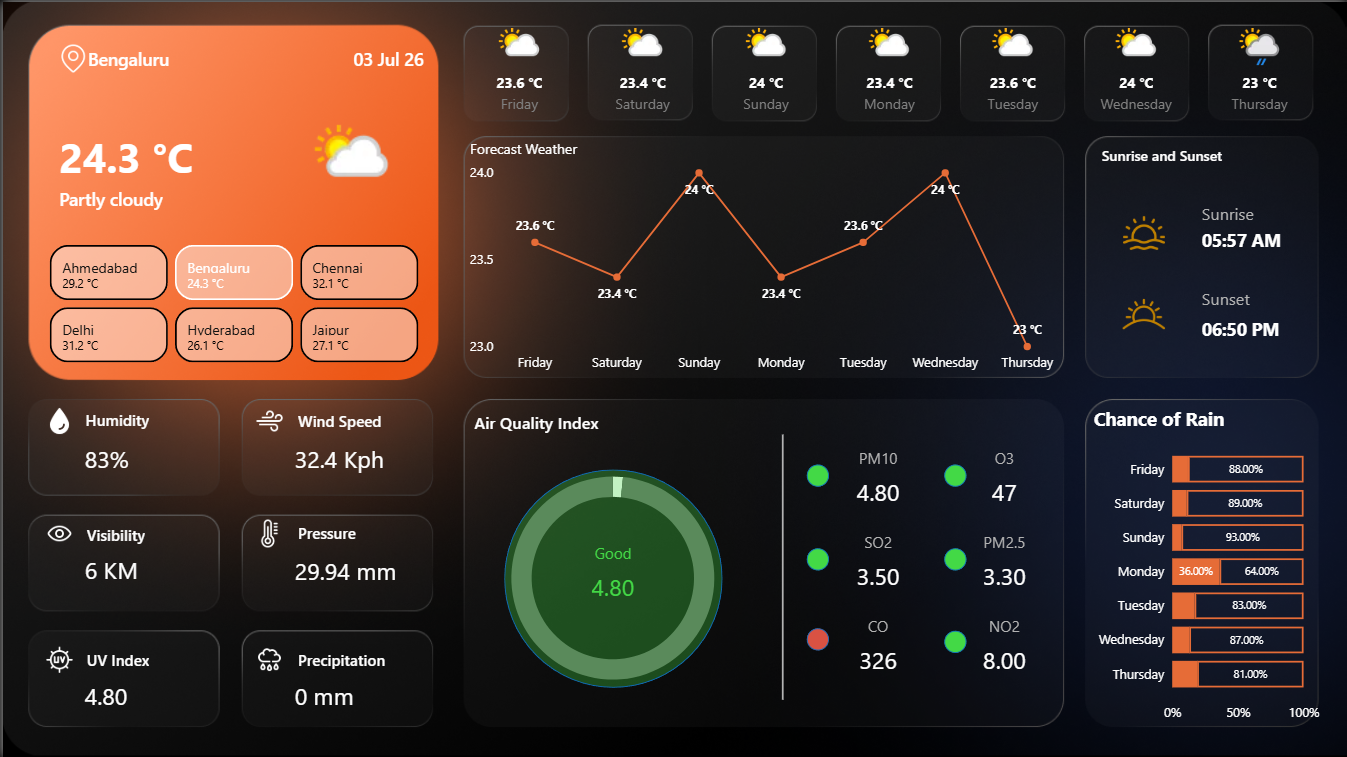

The page's visual inventory and layout, read from the dashboard file:
{"tool":"powerbi","page":{"name":"Page 1","canvas":[1536,864],"ordinal":0},"visuals":[{"type":"donutChart","title":"PM10","fields":{"Y":["Sum(Current.current.air_quality.pm10)","_Measures.LeftValue_pm10"]},"box":[547.4,508.2,300,300],"z":0},{"type":"shape","box":[918.3,529.1,25.4,25.4],"z":0,"group":"g7"},{"type":"shape","box":[1075.6,529.1,25.4,25.4],"z":0,"group":"g8"},{"type":"cardVisual","title":"SO2","fields":{"Data":["Sum(Current.current.air_quality.so2)"]},"box":[943.7,606,112,80],"z":0,"group":"g6"},{"type":"advancedSlicerVisual","fields":{"Values":["Forcast_Day.Day_Name"]},"box":[517.9,15.9,991.4,128.7],"z":1000},{"type":"shape","box":[572.7,533.5,249.4,249.4],"z":1000,"group":"g3"},{"type":"cardVisual","title":"PM2.5","fields":{"Data":["Sum(Current.current.air_quality.pm2_5)"]},"box":[1087.7,606,112,80],"z":1000,"group":"g6"},{"type":"shape","box":[918.3,624.4,25.4,25.4],"z":1000,"group":"g7"},{"type":"shape","box":[1075.6,624.4,25.4,25.4],"z":1000,"group":"g8"},{"type":"lineChart","title":"Forecast Weather","fields":{"Y":["Sum(Forcast_Day.forecast.forecastday.day.avgtemp_c)"],"Category":["Forcast_Day.Day_Name"]},"box":[529.1,155.7,684.8,276.4],"z":2000},{"type":"advancedSlicerVisual","fields":{"Values":["Locations.location.name"]},"box":[48,272,432,144],"z":2000,"group":"g5"},{"type":"shape","box":[918.3,716.6,25.4,25.4],"z":2000,"group":"g7"},{"type":"shape","box":[1075.6,719.8,25.4,25.4],"z":2000,"group":"g8"},{"type":"shape","box":[64,144,192,64],"z":3000,"group":"g5"},{"type":"hundredPercentStackedBarChart","title":"Chance of Rain","fields":{"Category":["Forcast_Day.Day_Name"],"Y":["Sum(Forcast_Day.forecast.forecastday.day.daily_chance_of_rain)","Current.Left_Value_Rain"]},"box":[1241.3,461.4,268.1,371.6],"z":3000},{"type":"shape","box":[64,208,432,32],"z":4000,"group":"g5"},{"type":"shape","box":[872.2,494.1,36.5,303.5],"z":4000},{"type":"shape","box":[96,48,128,32],"z":5000,"group":"g5"},{"type":"group","id":"g1","title":"Group 4","box":[1256.3,159.2,253.2,231.3],"z":5000},{"type":"shape","box":[352,48,128,32],"z":6000,"group":"g5"},{"type":"group","id":"g2","title":"Group 5","box":[918.3,510,281.2,271.7],"z":6000},{"type":"image","box":[48,464,32,32],"z":7000,"group":"g4"},{"type":"group","id":"g3","title":"Group 6","box":[539,464.1,283.2,318.8],"z":7000},{"type":"cardVisual","fields":{"Data":["Min(Current.current.condition.icon)"]},"box":[319.3,112.8,144.6,127.1],"z":8000,"group":"g5"},{"type":"group","id":"g4","title":"Group 7","box":[48,461.9,432,370.1],"z":8000},{"type":"group","id":"g5","title":"Group 8","box":[48,48,448,368],"z":9000},{"type":"image","box":[48,592,32,32],"z":9000,"group":"g4"},{"type":"image","box":[48,736,32,32],"z":10000,"group":"g4"},{"type":"image","box":[288,592,32,32],"z":11000,"group":"g4"},{"type":"image","box":[288,736,32,32],"z":12000,"group":"g4"},{"type":"image","box":[288,464,32,32],"z":13000,"group":"g4"},{"type":"shape","box":[93.9,461.9,129.6,32.8],"z":14000,"group":"g4"},{"type":"shape","box":[336,462,129,33],"z":15000,"group":"g4"},{"type":"shape","box":[336,591,129,33],"z":16000,"group":"g4"},{"type":"shape","box":[336,735,129,33],"z":17000,"group":"g4"},{"type":"shape","box":[94.5,592.5,129,33],"z":18000,"group":"g4"},{"type":"shape","box":[94.5,735,129,33],"z":19000,"group":"g4"},{"type":"cardVisual","fields":{"Data":["_Measures.humidity"]},"box":[64,480,160,80],"z":20000,"group":"g4"},{"type":"cardVisual","fields":{"Data":["_Measures.Wind_speed"]},"box":[304,480,176,80],"z":21000,"group":"g4"},{"type":"cardVisual","fields":{"Data":["_Measures.Pressure"]},"box":[303.5,608.5,176.4,79.4],"z":22000,"group":"g4"},{"type":"cardVisual","fields":{"Data":["_Measures.Rain"]},"box":[304,752,160,80],"z":23000,"group":"g4"},{"type":"cardVisual","fields":{"Data":["Sum(Current.current.uv)"]},"box":[64,752,160,80],"z":24000,"group":"g4"},{"type":"cardVisual","fields":{"Data":["_Measures.visibility"]},"box":[64,608,160,80],"z":25000,"group":"g4"},{"type":"image","box":[64,48,32,32],"z":26000,"group":"g5"},{"type":"shape","box":[1256.3,159.2,228.7,32.7],"z":29000,"group":"g1"},{"type":"shape","box":[1370.6,224.5,138.8,34],"z":30000,"group":"g1"},{"type":"shape","box":[1370.6,322.5,138.8,34],"z":31000,"group":"g1"},{"type":"shape","box":[1370.6,254.5,138.8,34],"z":32000,"group":"g1"},{"type":"shape","box":[1370.6,356.5,138.8,34],"z":33000,"group":"g1"},{"type":"image","box":[1280,240,48,48],"z":34000,"group":"g1"},{"type":"image","box":[1272.7,324.7,64.5,64.5],"z":35000,"group":"g1"},{"type":"cardVisual","title":"PM10","fields":{"Data":["Sum(Current.current.air_quality.pm10)"]},"box":[943.7,510,112,80],"z":36000,"group":"g6"},{"type":"shape","box":[539,464.1,272.2,32.7],"z":37000,"group":"g3"},{"type":"cardVisual","title":"O3","fields":{"Data":["Sum(Current.current.air_quality.o3)"]},"box":[1087.7,510,112,80],"z":37000,"group":"g6"},{"type":"group","id":"g6","title":"Group 1","box":[943.7,510,255.8,271.7],"z":38000,"group":"g2"},{"type":"cardVisual","title":"CO","fields":{"Data":["Sum(Current.current.air_quality.co)"]},"box":[943.7,702,112,80],"z":38000,"group":"g6"},{"type":"cardVisual","fields":{"Data":["Sum(Current.current.air_quality.pm10)"]},"box":[638.7,618.5,117.6,79.4],"z":39000,"group":"g3"},{"type":"cardVisual","title":"NO2","fields":{"Data":["Sum(Current.current.air_quality.no2)"]},"box":[1087.7,702,112,80],"z":39000,"group":"g6"},{"type":"group","id":"g7","title":"Group 2","box":[918.3,529.1,25.4,212.9],"z":40000,"group":"g2"},{"type":"group","id":"g8","title":"Group 3","box":[1075.6,529.1,25.4,216.1],"z":41000,"group":"g2"}]}

Visuals, with their boxes in screenshot pixels (x1, y1, x2, y2), scaled from the page's 1536x864 canvas onto the 1347x757 screenshot:
"PM10" donutChart: 480,445,743,708
shape: 805,464,828,486
shape: 943,464,966,486
"SO2" cardVisual: 828,531,926,601
advancedSlicerVisual - Forcast_Day.Day_Name: 454,14,1324,127
shape: 502,467,721,686
"PM2.5" cardVisual: 954,531,1052,601
shape: 805,547,828,569
shape: 943,547,966,569
"Forecast Weather" lineChart: 464,136,1065,379
advancedSlicerVisual - Locations.location.name: 42,238,421,364
shape: 805,628,828,650
shape: 943,631,966,653
shape: 56,126,224,182
"Chance of Rain" hundredPercentStackedBarChart: 1089,404,1324,730
shape: 56,182,435,210
shape: 765,433,797,699
shape: 84,42,196,70
"Group 4" group: 1102,139,1324,342
shape: 309,42,421,70
"Group 5" group: 805,447,1052,685
image: 42,407,70,435
"Group 6" group: 473,407,721,686
cardVisual - Min(Current.current.condition.icon): 280,99,407,210
"Group 7" group: 42,405,421,729
"Group 8" group: 42,42,435,364
image: 42,519,70,547
image: 42,645,70,673
image: 253,519,281,547
image: 253,645,281,673
image: 253,407,281,435
shape: 82,405,196,433
shape: 295,405,408,434
shape: 295,518,408,547
shape: 295,644,408,673
shape: 83,519,196,548
shape: 83,644,196,673
cardVisual - _Measures.humidity: 56,421,196,491
cardVisual - _Measures.Wind_speed: 267,421,421,491
cardVisual - _Measures.Pressure: 266,533,421,603
cardVisual - _Measures.Rain: 267,659,407,729
cardVisual - Sum(Current.current.uv): 56,659,196,729
cardVisual - _Measures.visibility: 56,533,196,603
image: 56,42,84,70
shape: 1102,139,1302,168
shape: 1202,197,1324,226
shape: 1202,283,1324,312
shape: 1202,223,1324,253
shape: 1202,312,1324,342
image: 1122,210,1165,252
image: 1116,284,1173,341
"PM10" cardVisual: 828,447,926,517
shape: 473,407,711,435
"O3" cardVisual: 954,447,1052,517
"Group 1" group: 828,447,1052,685
"CO" cardVisual: 828,615,926,685
cardVisual - Sum(Current.current.air_quality.pm10): 560,542,663,611
"NO2" cardVisual: 954,615,1052,685
"Group 2" group: 805,464,828,650
"Group 3" group: 943,464,966,653
